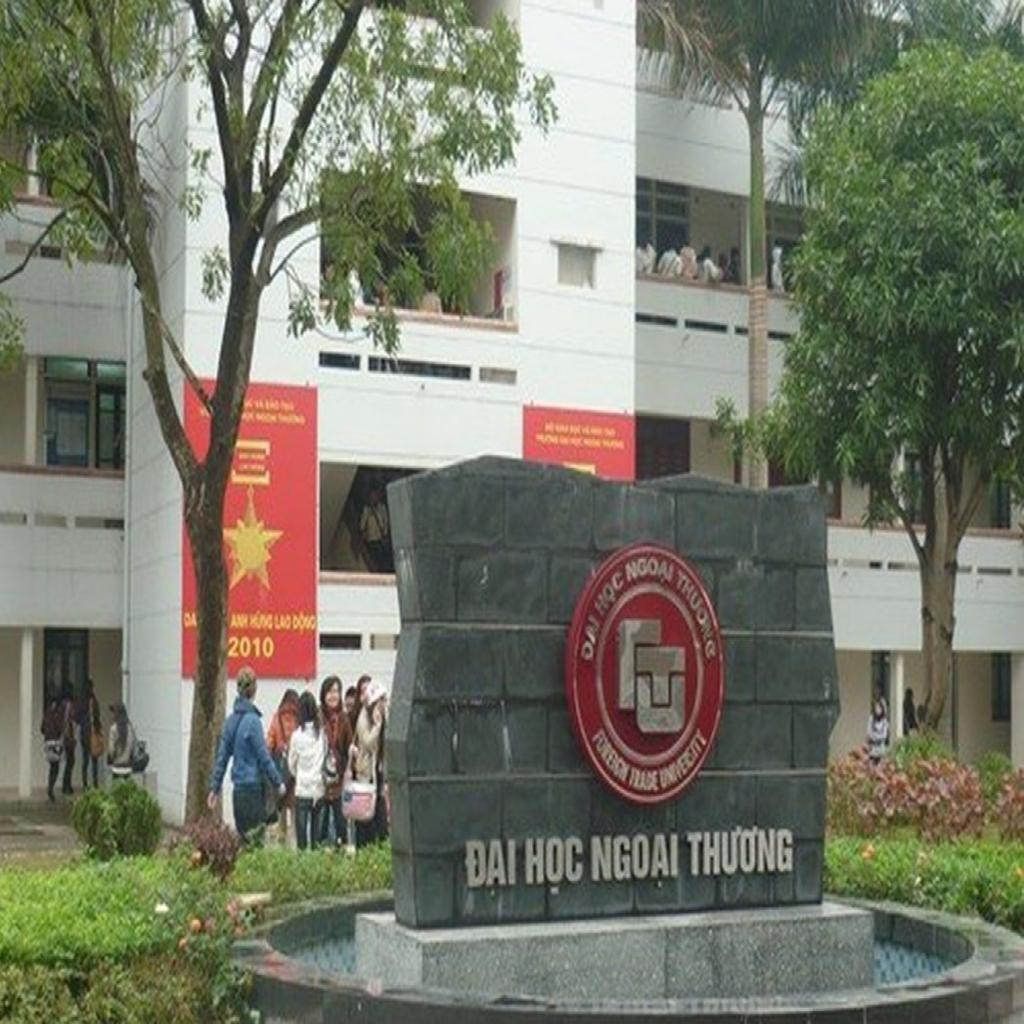text: (686, 822, 795, 881), (674, 554, 728, 666), (590, 830, 680, 894), (524, 830, 587, 902), (464, 836, 518, 900), (590, 564, 628, 620), (624, 556, 678, 588), (578, 608, 603, 667), (226, 633, 277, 660), (227, 611, 249, 631), (273, 612, 292, 632)
